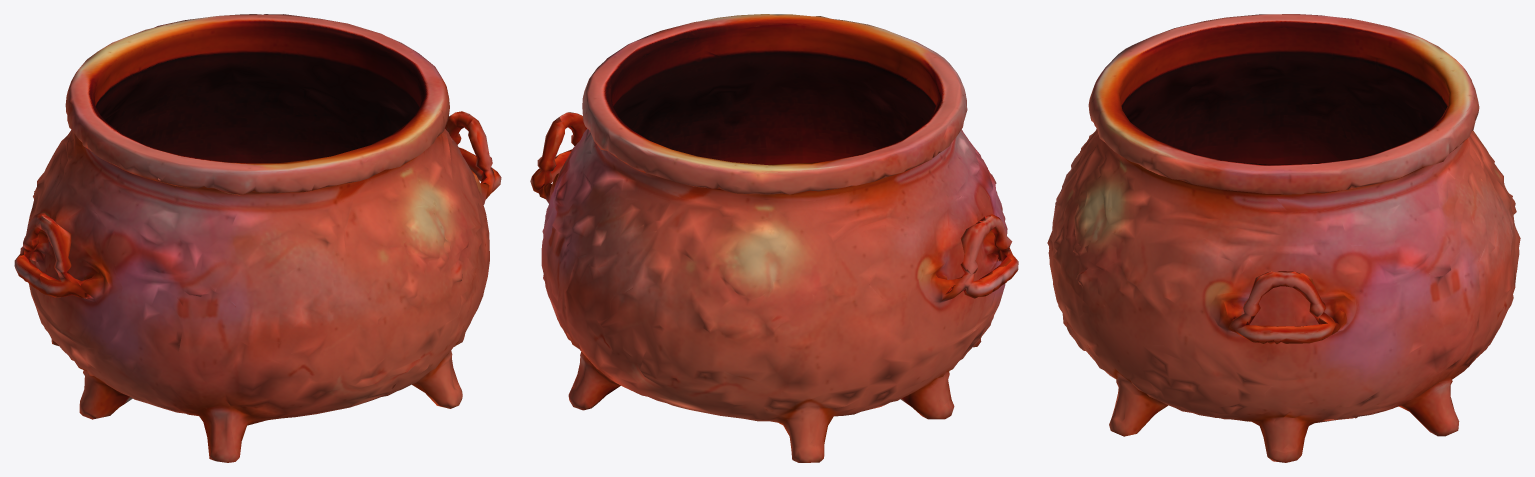
Rendered from cauldron.glb.
The picture shows the model from 3 angles, left to right: view 1: azimuth 30°, elevation 25°; view 2: azimuth 150°, elevation 25°; view 3: azimuth 270°, elevation 25°; orthographic projection.
Parts seen in each view (by area): view 1: Caldeirão com textura basica + fogo; view 2: Caldeirão com textura basica + fogo; view 3: Caldeirão com textura basica + fogo.
Boxes of the visible parts, x1,y1,x2,y2 form: Caldeirão com textura basica + fogo: (14, 14, 501, 462); Caldeirão com textura basica + fogo: (530, 14, 1018, 462); Caldeirão com textura basica + fogo: (1047, 14, 1520, 462).
Bounding box in the file's own units: 64.7 × 38 × 57.19.
1 material, 1 textured.
